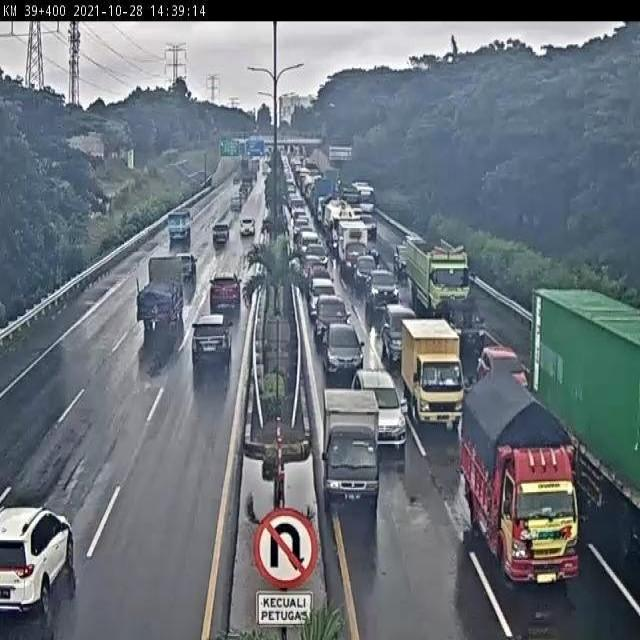Bus: (352, 181, 377, 212)
Car: (0, 503, 75, 621), (351, 367, 408, 447), (436, 296, 486, 352), (322, 321, 364, 382), (378, 302, 419, 364), (476, 344, 529, 389), (190, 314, 233, 368), (313, 294, 351, 346), (366, 268, 398, 314), (208, 274, 241, 310), (309, 277, 337, 316), (351, 253, 378, 291), (176, 252, 197, 286), (302, 242, 328, 269), (308, 262, 333, 288), (299, 230, 321, 256), (393, 242, 409, 276), (361, 212, 378, 240), (212, 223, 230, 245), (292, 218, 308, 242), (239, 217, 257, 237), (297, 223, 313, 244), (230, 193, 242, 212), (239, 184, 248, 198), (233, 176, 241, 185)
Truck: (530, 282, 640, 560), (459, 367, 581, 586), (399, 315, 465, 426), (319, 388, 381, 506), (401, 238, 471, 321), (135, 255, 185, 328), (337, 219, 368, 279), (323, 199, 360, 246), (313, 176, 336, 223), (166, 208, 193, 241), (342, 185, 362, 209), (240, 158, 249, 173), (252, 159, 260, 174)
